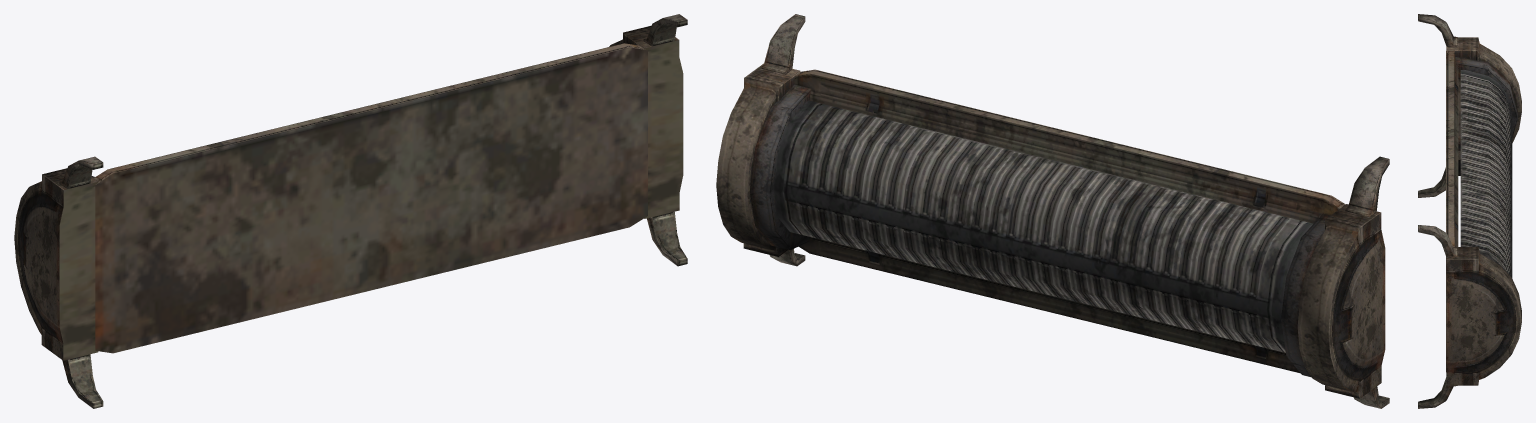
Rendered from wall_medium.dae.
The picture shows the model from 3 angles, left to right: view 1: azimuth 30°, elevation 25°; view 2: azimuth 150°, elevation 25°; view 3: azimuth 270°, elevation 25°; orthographic projection. The views are drawn at different scales.
Parts seen in each view (by area): view 1: wall_medium_robot; view 2: wall_medium_robot; view 3: wall_medium_robot.
Part boxes in pixels (bbox=[...]): wall_medium_robot: bbox=[14, 14, 687, 408]; wall_medium_robot: bbox=[716, 14, 1389, 408]; wall_medium_robot: bbox=[1418, 14, 1521, 408].
Size of the model in its own units: 1.02 by 0.3829 by 0.1998.
